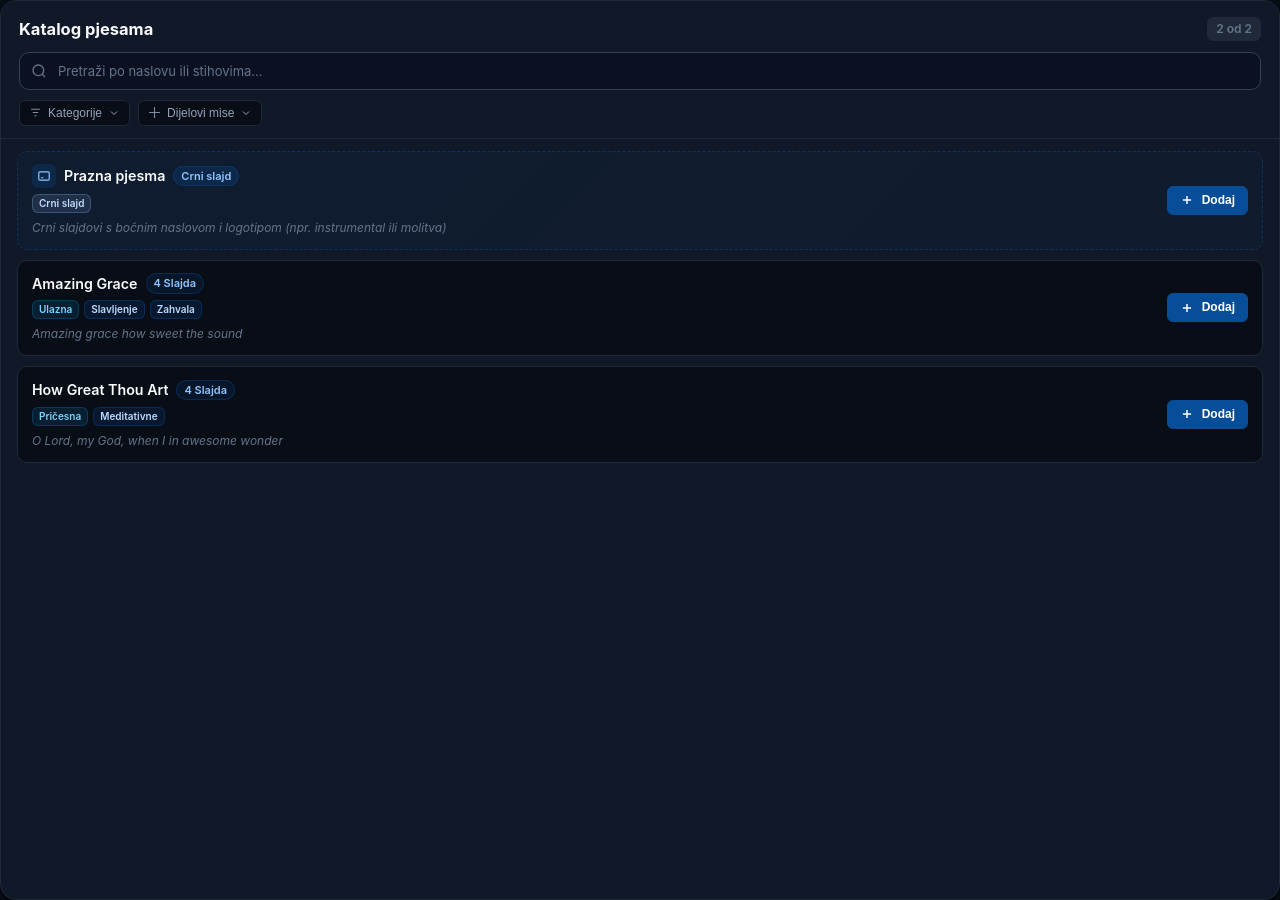
Scenario: SongCatalogComponent › should add song to playlist and update button state when add button clicked
Click the 1st button with class "add-btn" at (1207, 308), box [1167,293,1248,322]
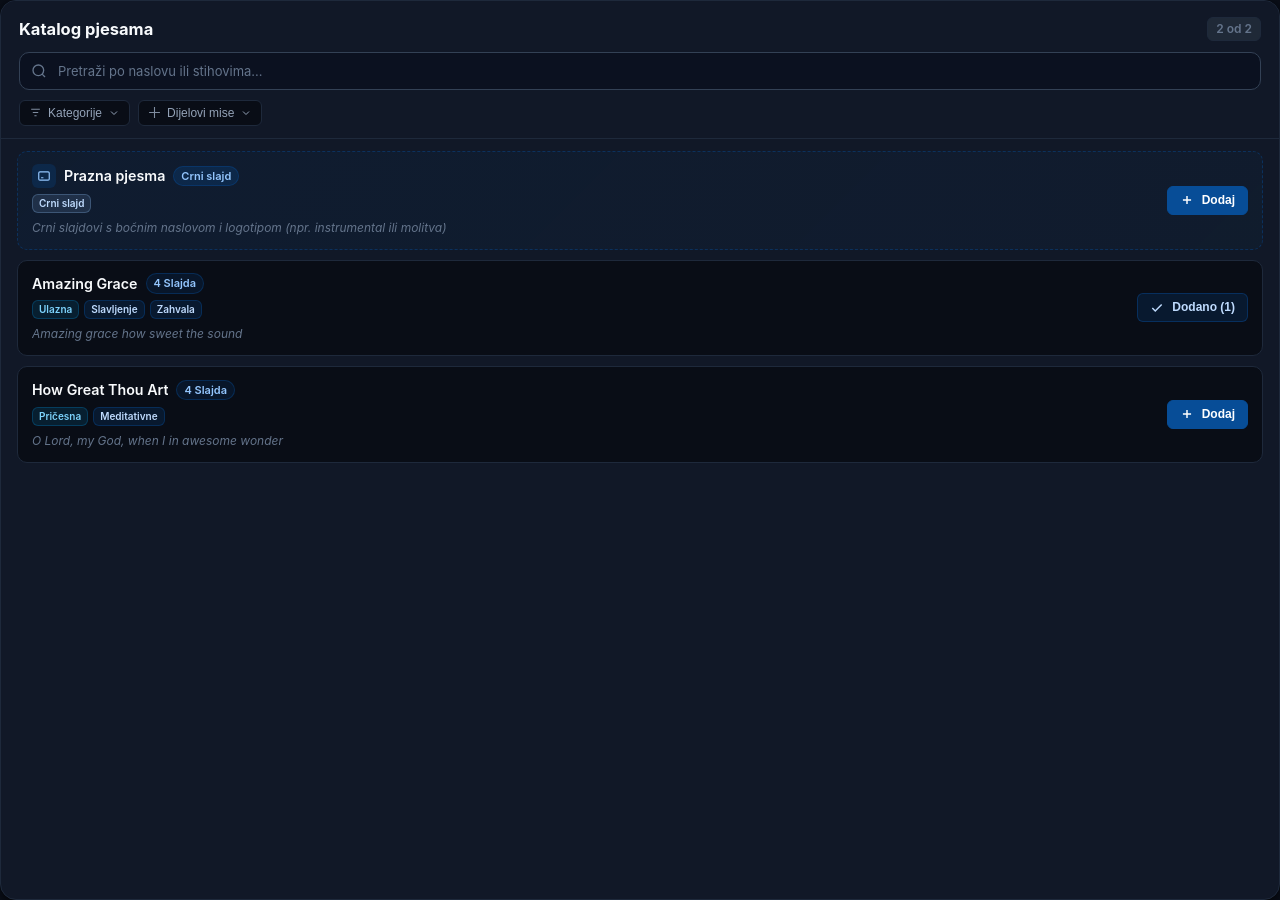
Expected: the button with class "add-btn" reads "Dodano (1)", [1137,293,1248,322]
